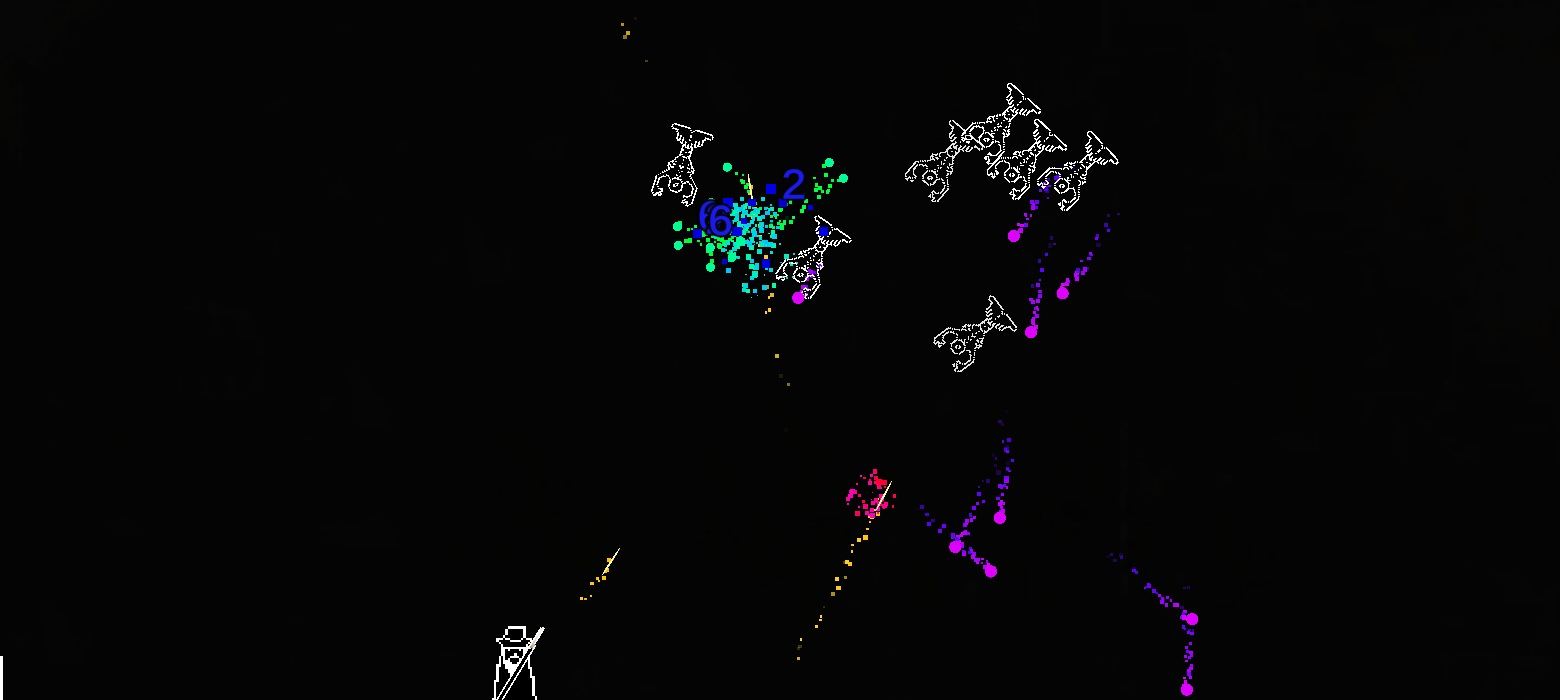enemy: (1036, 131, 1119, 211), (987, 118, 1067, 200), (933, 295, 1017, 373), (961, 83, 1041, 164), (905, 120, 984, 202), (775, 215, 852, 299), (651, 122, 714, 207)
